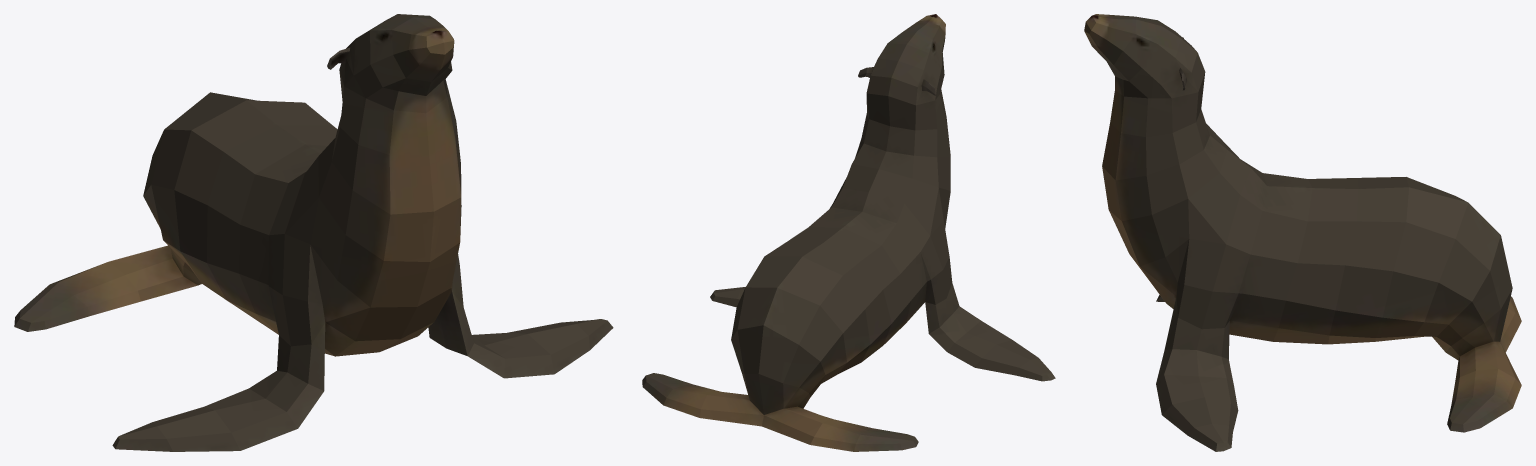
Rendered from animals-sea-lion-175.glb.
3 renders of one model, left to right at view 1: azimuth 30°, elevation 25°; view 2: azimuth 150°, elevation 25°; view 3: azimuth 270°, elevation 25°, orthographic. The views are drawn at different scales.
Visible parts, largest first — view 1: SeaLion_Mesh; view 2: SeaLion_Mesh; view 3: SeaLion_Mesh.
Part boxes in pixels (x1=…): SeaLion_Mesh: x1=14, y1=14, x2=613, y2=451; SeaLion_Mesh: x1=642, y1=14, x2=1055, y2=451; SeaLion_Mesh: x1=1084, y1=14, x2=1521, y2=451.
Size of the model in its own units: 9.53 by 7.54 by 8.86.
1 material, 1 textured.
